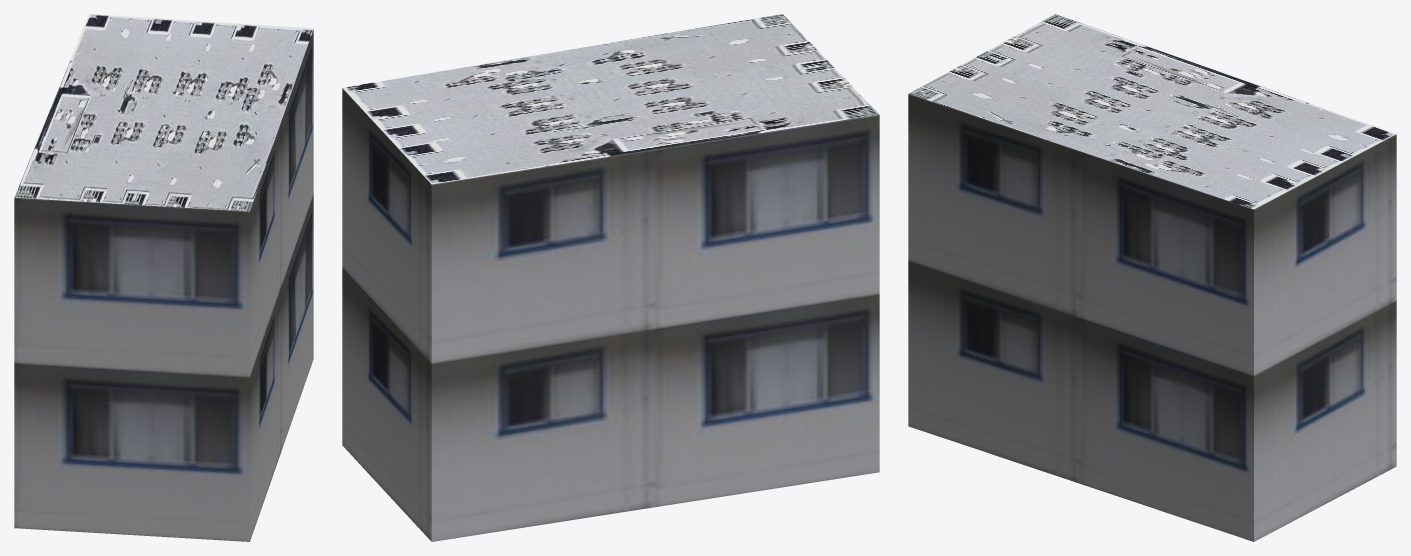
The model's file is ResTex__143.fbx.
3 renders of one model, left to right at view 1: azimuth 30°, elevation 25°; view 2: azimuth 150°, elevation 25°; view 3: azimuth 270°, elevation 25°, orthographic. The views are drawn at different scales.
Parts seen in each view (by area): view 1: CityEngineMaterial_9_m, CityEngineMaterial_4_m; view 2: CityEngineMaterial_9_m, CityEngineMaterial_4_m; view 3: CityEngineMaterial_9_m, CityEngineMaterial_4_m.
Part boxes in pixels (left/top/right/bottom): CityEngineMaterial_9_m: left=14, top=29, right=313, bottom=541; CityEngineMaterial_4_m: left=14, top=14, right=313, bottom=211; CityEngineMaterial_9_m: left=342, top=88, right=879, bottom=541; CityEngineMaterial_4_m: left=342, top=14, right=879, bottom=184; CityEngineMaterial_9_m: left=908, top=94, right=1396, bottom=541; CityEngineMaterial_4_m: left=908, top=14, right=1396, bottom=209.
Bounding box in the file's own units: 7.57 × 6 × 7.99.
Materials: 2 (2 with a texture image).
